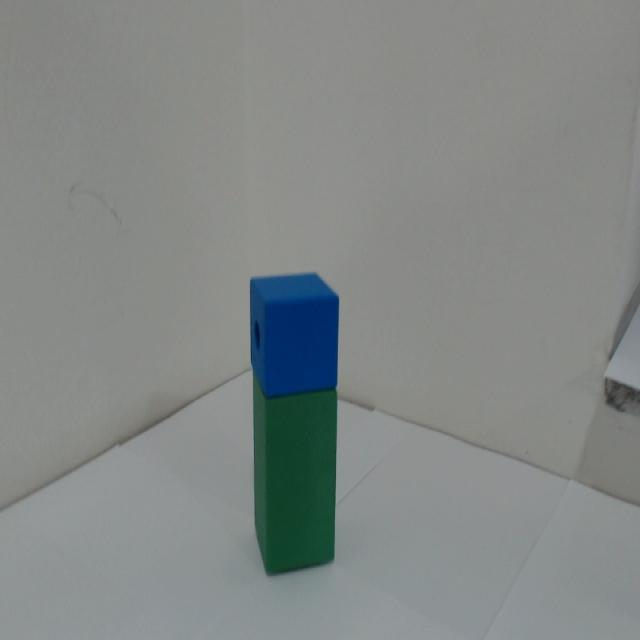cube: (238, 246, 359, 397)
